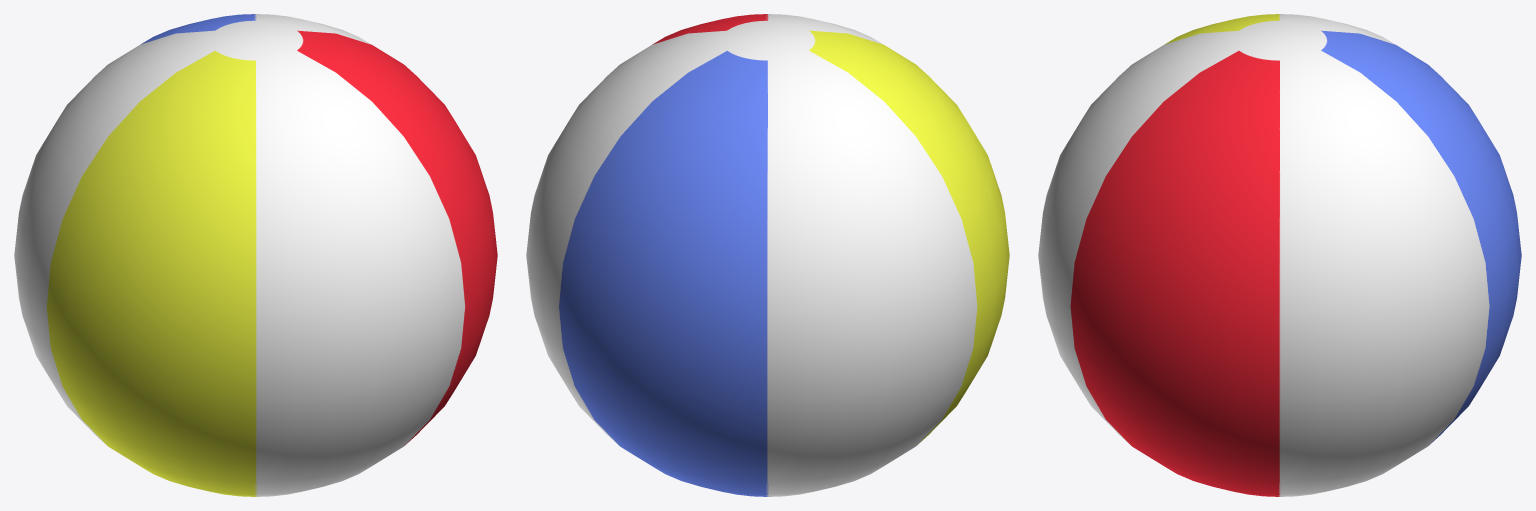
Rendered from Beachball.fbx.
3 renders of one model, left to right at view 1: azimuth 30°, elevation 25°; view 2: azimuth 150°, elevation 25°; view 3: azimuth 270°, elevation 25°, orthographic.
Parts seen in each view (by area): view 1: Sphere; view 2: Sphere; view 3: Sphere.
Part boxes in pixels (<box>): Sphere: <box>14,14,497,496</box>; Sphere: <box>526,14,1009,496</box>; Sphere: <box>1038,14,1521,496</box>.
Size of the model in its own units: 200 by 200 by 200.
1 material, 1 textured.
